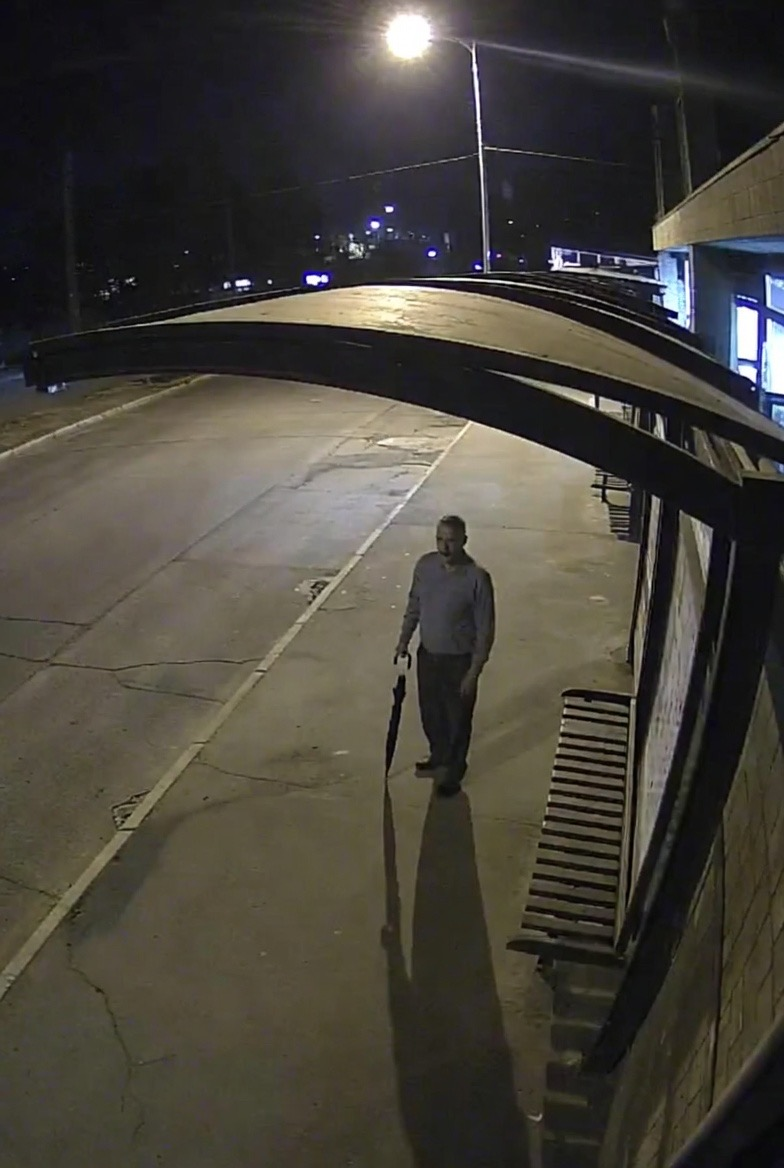person: (394, 515, 497, 797)
umbrella: (385, 660, 409, 774)
